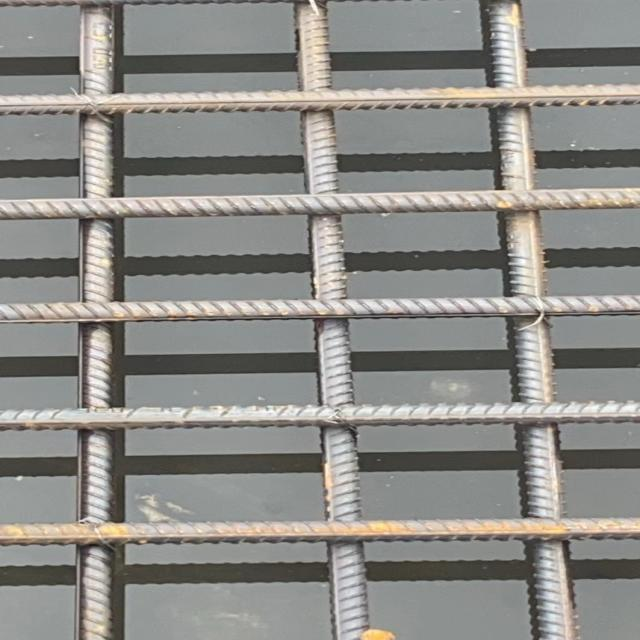ribbed bar: (479, 0, 582, 639), (293, 0, 367, 639), (69, 4, 119, 639), (0, 187, 639, 220), (0, 399, 639, 431), (0, 84, 639, 115), (0, 294, 639, 324), (0, 517, 639, 546)
